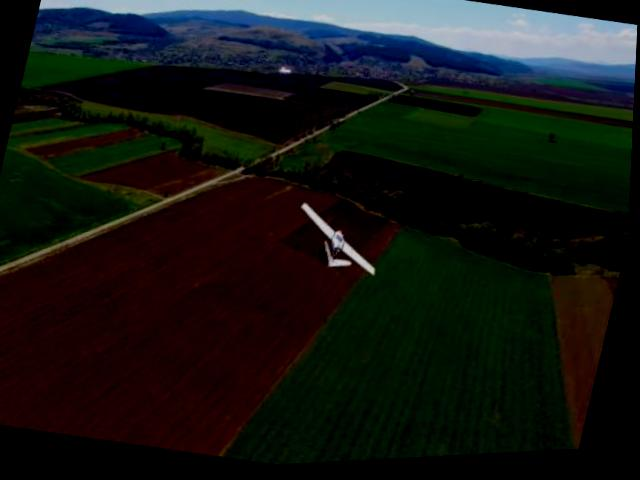uav: (284, 189, 398, 292)
